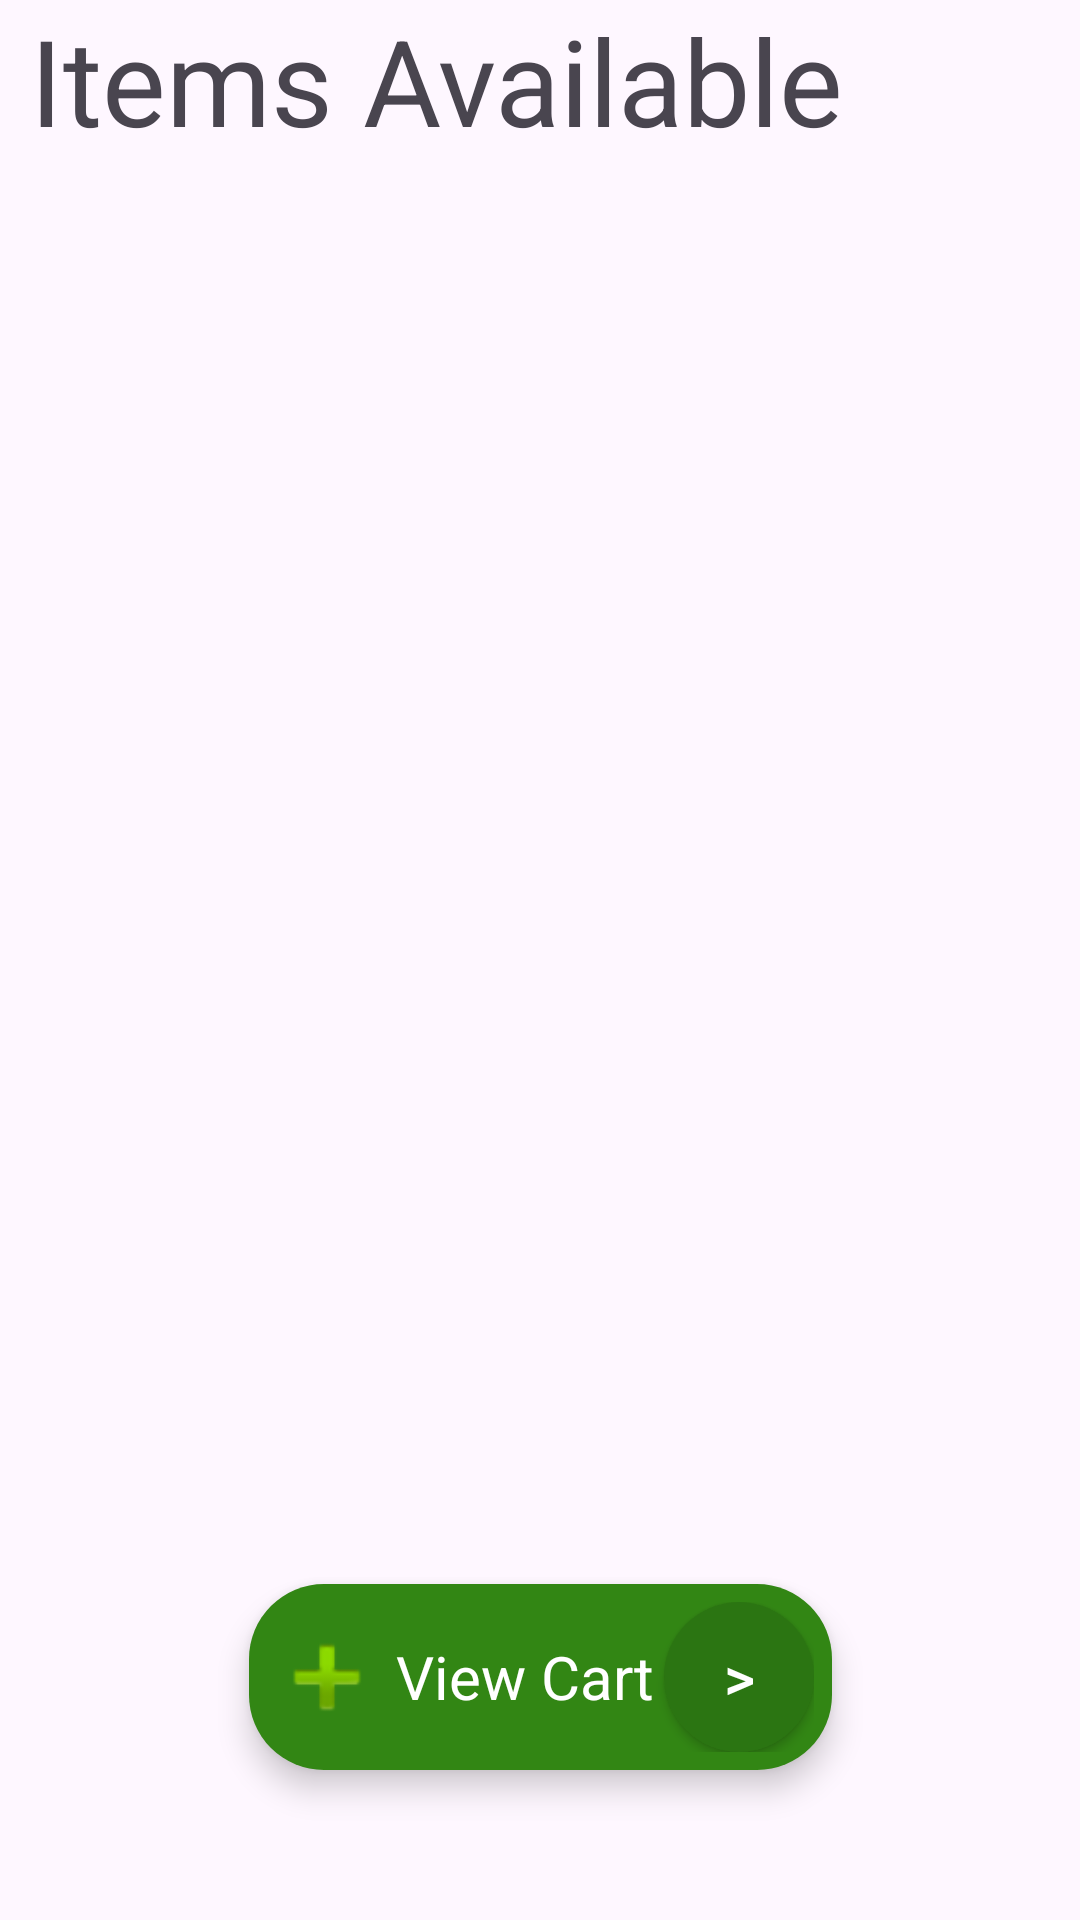

Where icons sit on this 1080 x 1920 app screen, as (left=x1, top=y1, right=x2, bottom=y2):
add: (left=294, top=1645, right=360, bottom=1710)
